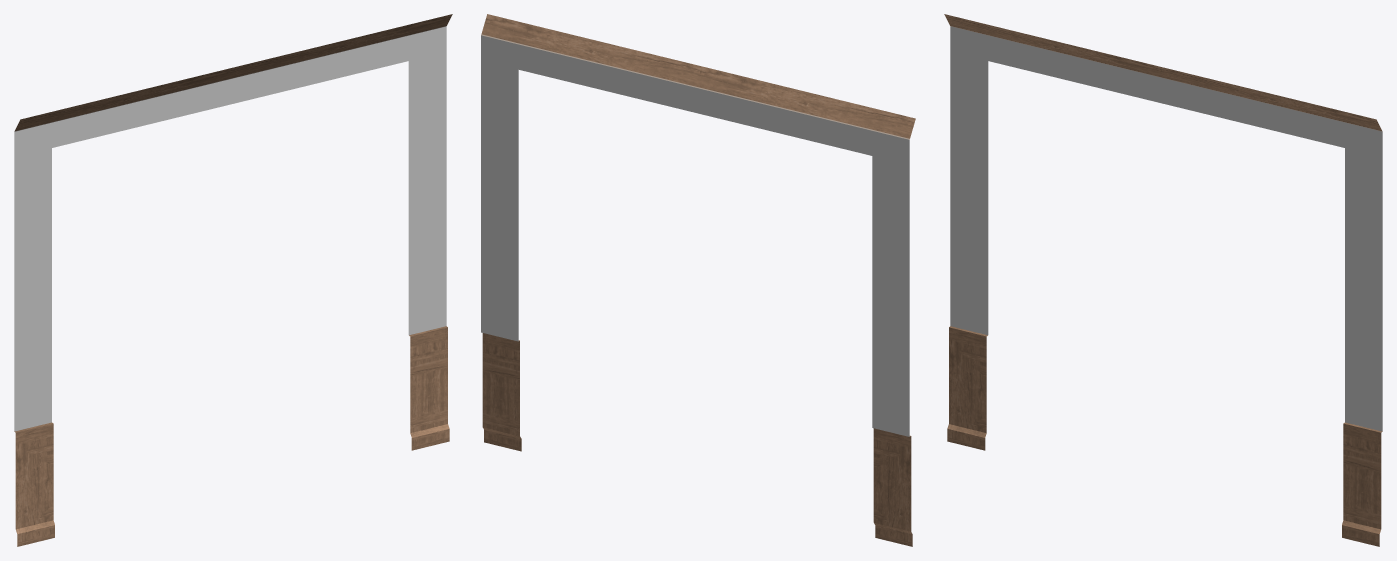
File: WallInt2Door2A.fbx
The picture shows the model from 3 angles, left to right: view 1: azimuth 30°, elevation 25°; view 2: azimuth 150°, elevation 25°; view 3: azimuth 330°, elevation 25°; orthographic projection.
Parts seen in each view (by area): view 1: WallInt2Door2A; view 2: WallInt2Door2A; view 3: WallInt2Door2A.
Part boxes in pixels (box(x1,y1,x2,y2)): WallInt2Door2A: box(14, 14, 452, 546); WallInt2Door2A: box(481, 14, 915, 546); WallInt2Door2A: box(944, 14, 1382, 546).
Size of the model in its own units: 400 by 380 by 10.
